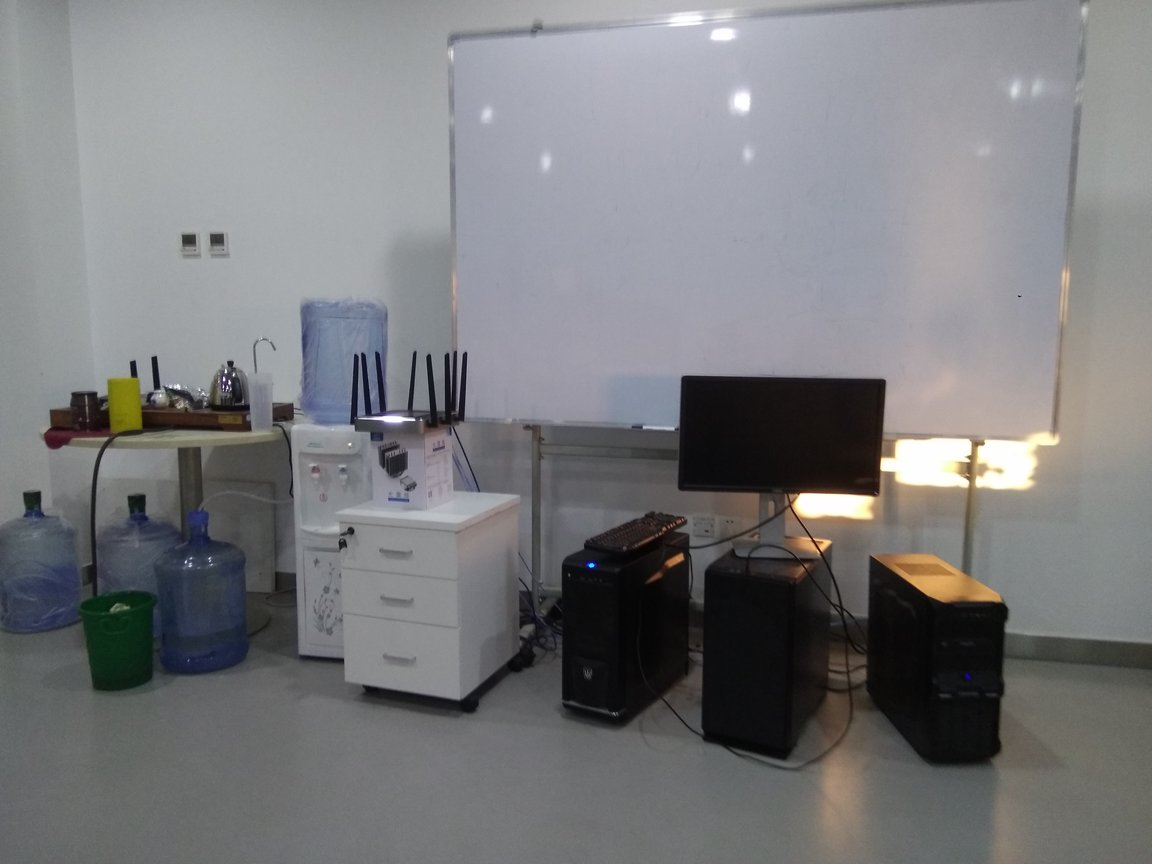computer: (864, 547, 1015, 777), (705, 531, 832, 769), (565, 526, 691, 742)
drawer chest: (344, 488, 532, 712)
monitor: (672, 371, 895, 564)
scuttlebutt: (148, 507, 260, 678), (96, 496, 173, 658), (3, 488, 83, 636), (293, 290, 382, 422)
water dispenser: (292, 419, 399, 666)
